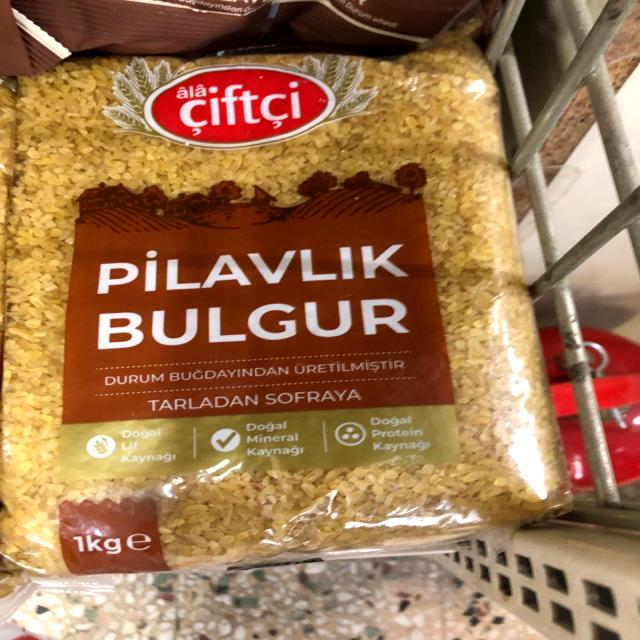bulgur: (0, 35, 529, 551)
